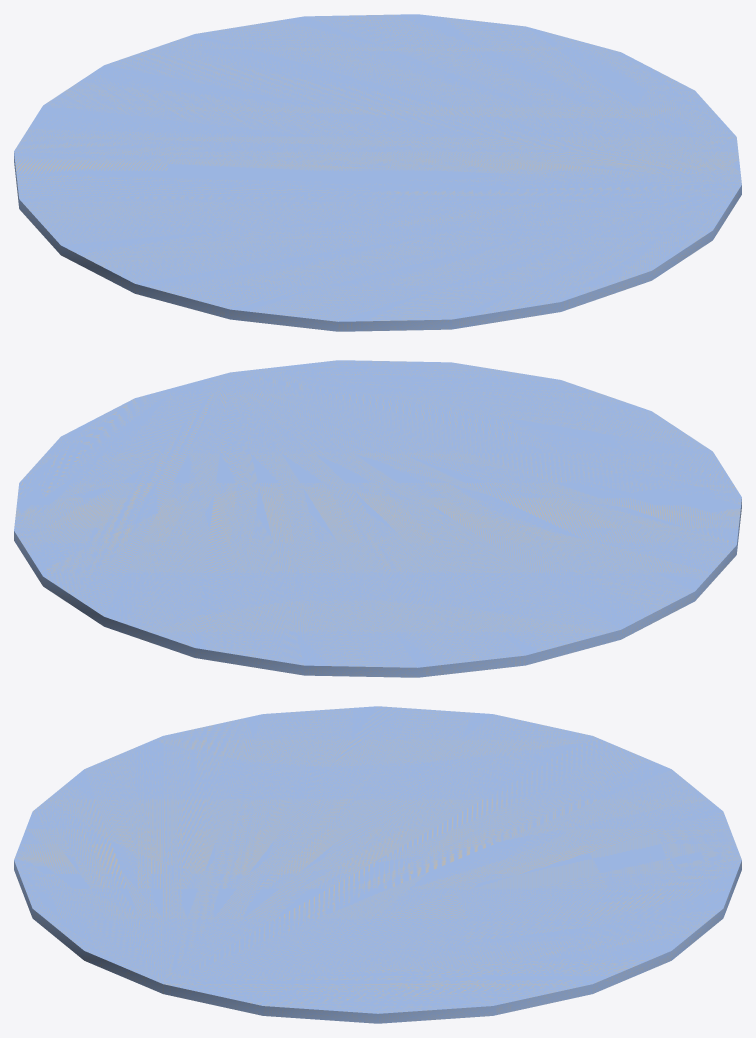
The model's file is original-17.obj.
3 renders of one model, top to bottom at view 1: azimuth 30°, elevation 25°; view 2: azimuth 150°, elevation 25°; view 3: azimuth 270°, elevation 25°, orthographic.
Parts seen in each view (by area): view 1: mesh17/mesh17-geometry#mesh17-geometry; view 2: mesh17/mesh17-geometry#mesh17-geometry; view 3: mesh17/mesh17-geometry#mesh17-geometry.
Part boxes in pixels (bbox=[...]): mesh17/mesh17-geometry#mesh17-geometry: bbox=[14, 14, 741, 331]; mesh17/mesh17-geometry#mesh17-geometry: bbox=[14, 360, 741, 677]; mesh17/mesh17-geometry#mesh17-geometry: bbox=[14, 706, 741, 1023].
Size of the model in its own units: 0.9901 by 0.0149 by 0.9901.
